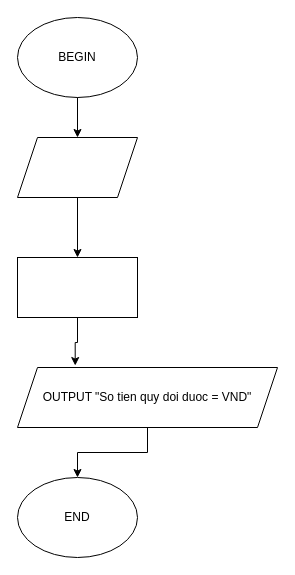
Some shapes in this 295 by 575 pixel diagram are drawn without their labels. Each missing label, with the centre of its shape:
"INPUT USD" belongs at [77,167].
"VND = USD * 23000" belongs at [77,287].
